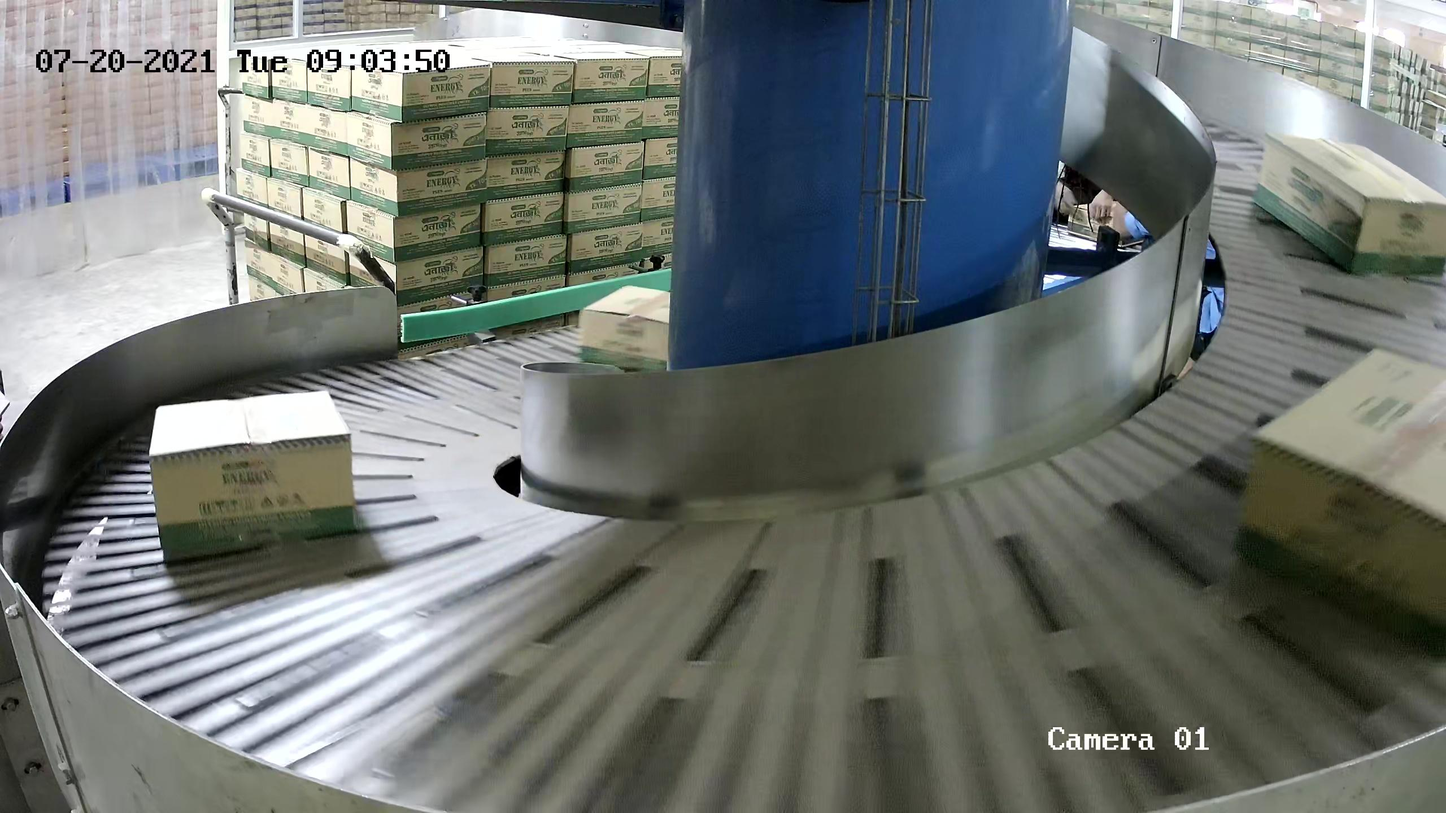Box: (1232, 344, 1446, 660), (147, 388, 358, 557), (1251, 129, 1446, 275), (577, 284, 670, 371)
